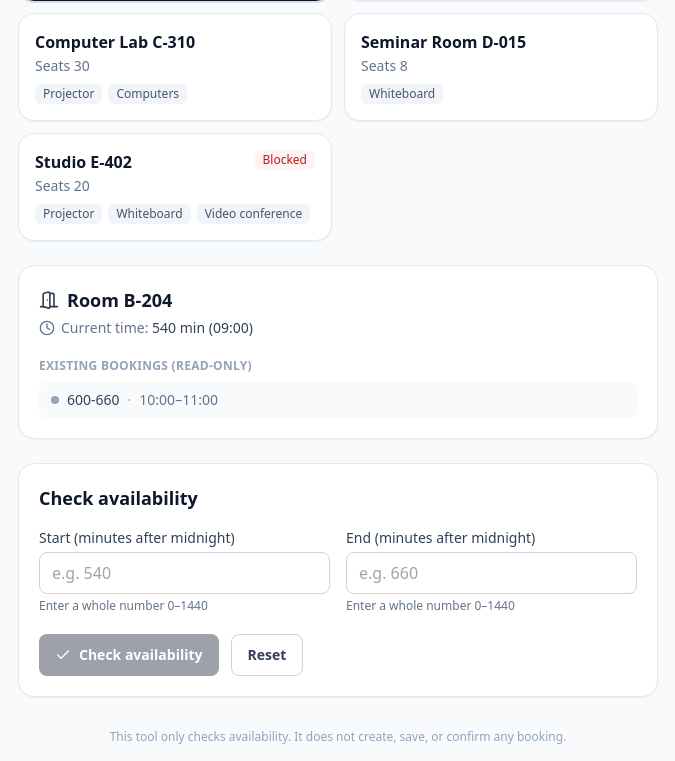
it: Assignment 3 behavior in the multi-room UI › shows an HH:MM hint under a valid time
(page scrolled)
Type "660" into the number field labelled "Start (minutes after midnight)" at (184, 573), box [39,552,330,594]
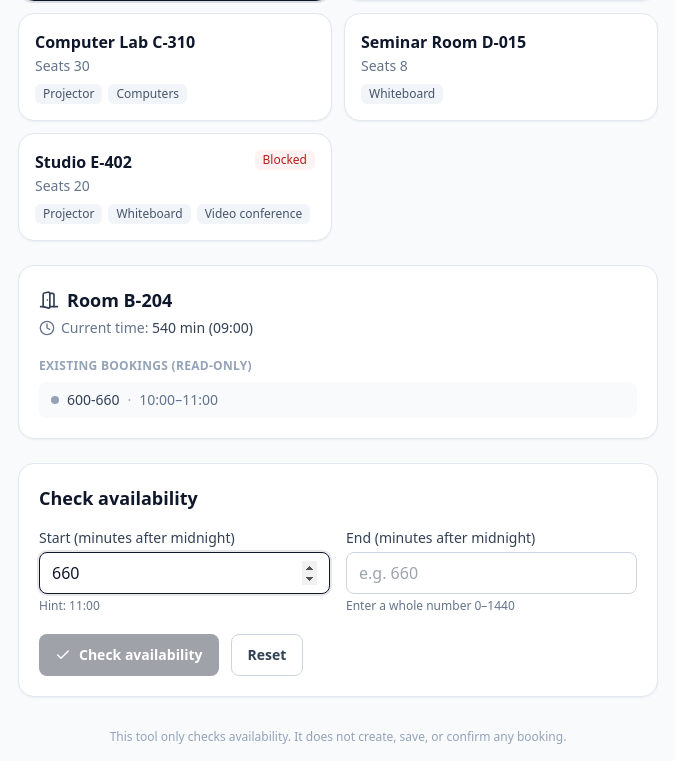
Now the text "Hint: 11:00" is shown, box [39,597,100,614]
